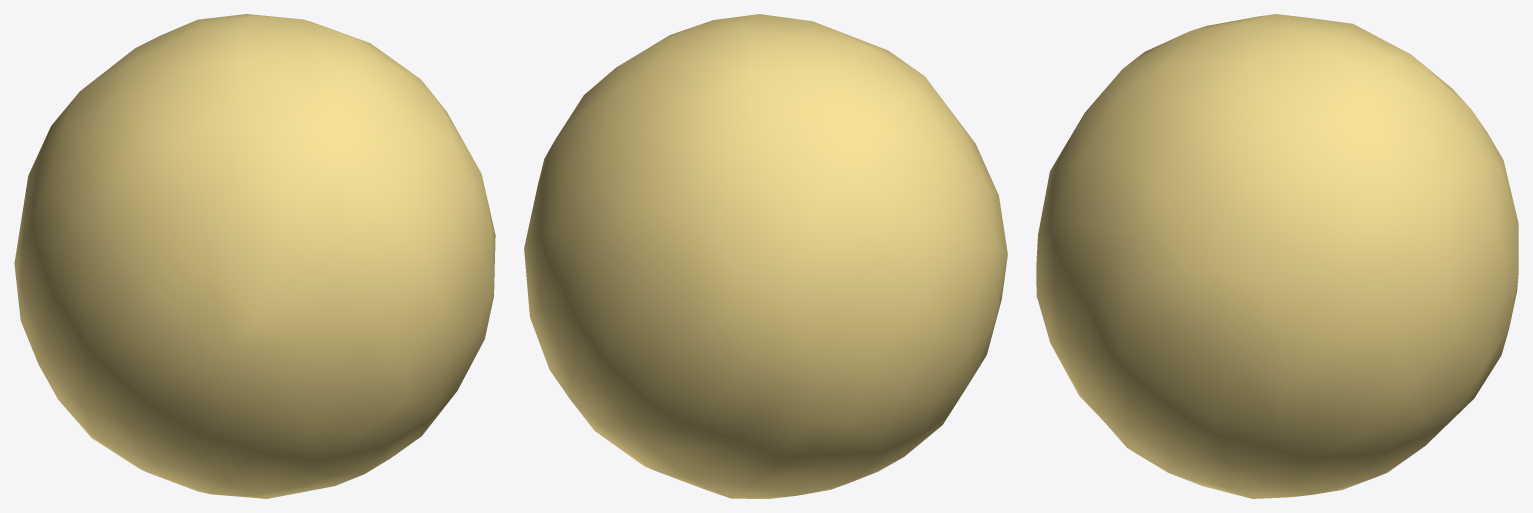
File: fma77532-r_mm2597m.glb
3 renders of one model, left to right at view 1: azimuth 30°, elevation 25°; view 2: azimuth 150°, elevation 25°; view 3: azimuth 270°, elevation 25°, orthographic.
Parts seen in each view (by area): view 1: FMA77532-R_MM2597M; view 2: FMA77532-R_MM2597M; view 3: FMA77532-R_MM2597M.
Part boxes in pixels (x1,y1,x2,y2): FMA77532-R_MM2597M: (14,14,495,498); FMA77532-R_MM2597M: (524,14,1007,498); FMA77532-R_MM2597M: (1036,14,1518,498).
Size of the model in its own units: 0.00208 by 0.00209 by 0.00207.
